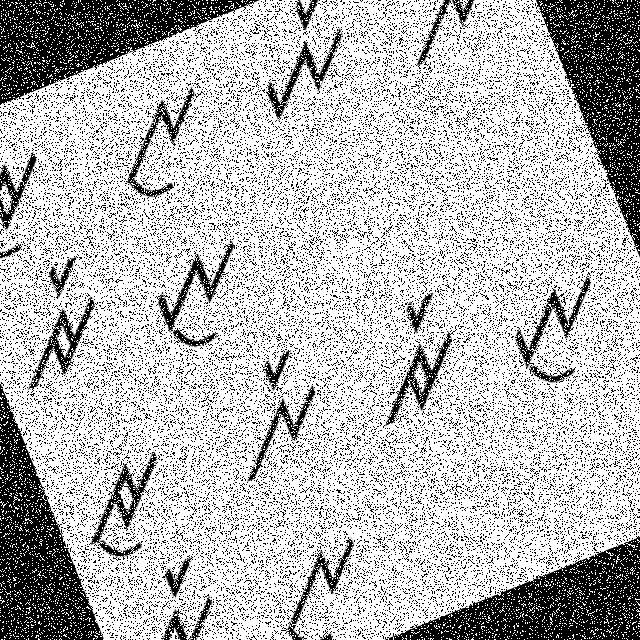lar: (196, 335, 350, 494), (368, 0, 519, 72)
law: (96, 76, 235, 212), (255, 524, 396, 639)
rar: (336, 280, 482, 432), (0, 248, 127, 395)
raw: (56, 428, 202, 580), (0, 140, 73, 279)
yar: (229, 0, 381, 129), (100, 548, 246, 639)
yaw: (484, 256, 633, 401), (126, 226, 276, 370)
